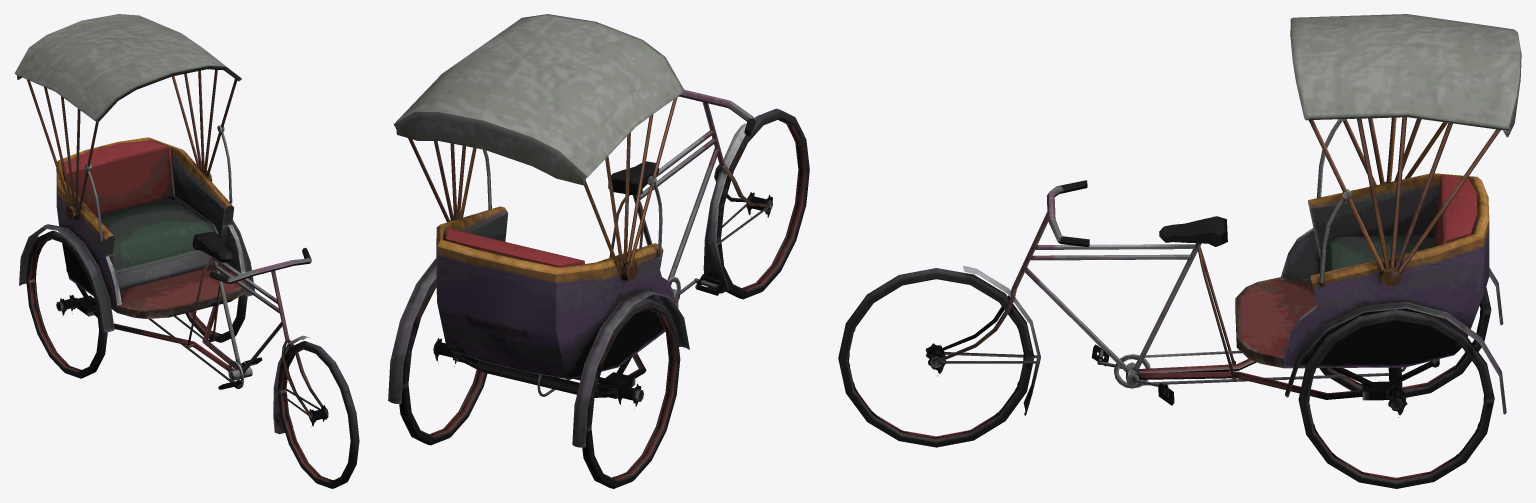
File: rickshaw.glb
3 views of the same model, side by side, from view 1: azimuth 30°, elevation 25°; view 2: azimuth 150°, elevation 25°; view 3: azimuth 270°, elevation 25° (orthographic). The views are drawn at different scales.
Bounding box in the file's own units: 1.47 × 2.76 × 4.2.
1 material, 1 textured.
